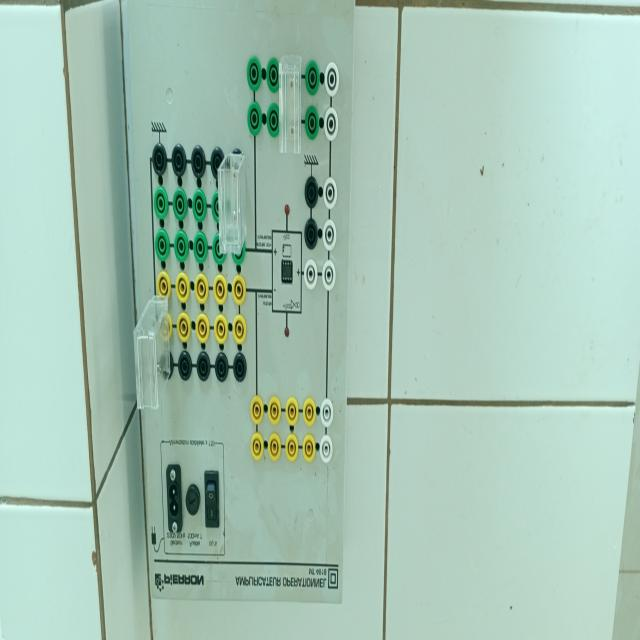Operational Amplifier Board: (131, 0, 370, 620)
